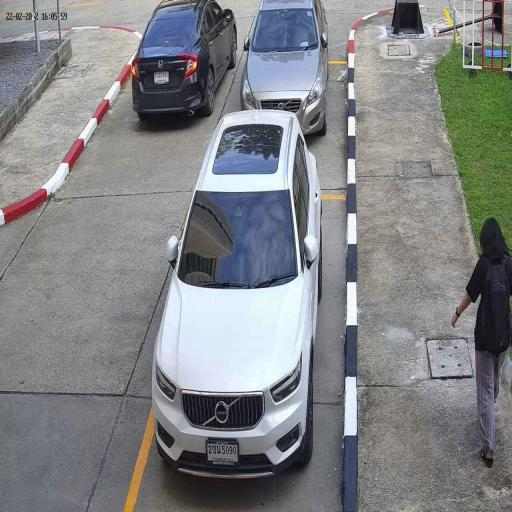car: (152, 111, 324, 483), (129, 0, 237, 124), (239, 0, 330, 139)
